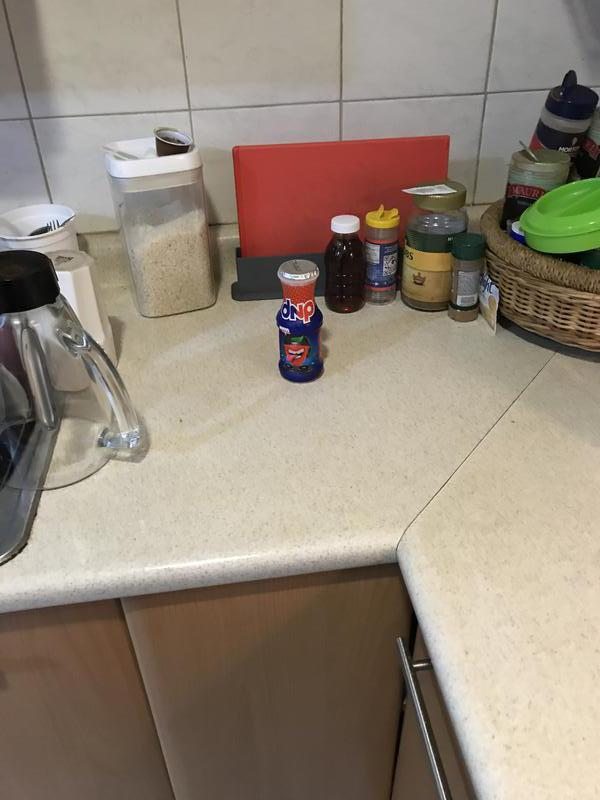danup: (272, 259, 327, 384)
